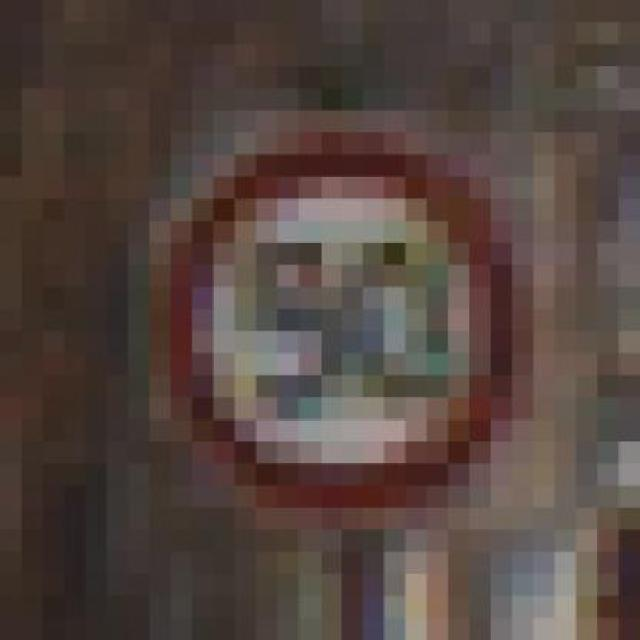50 mph speed limit: (107, 88, 555, 508)
